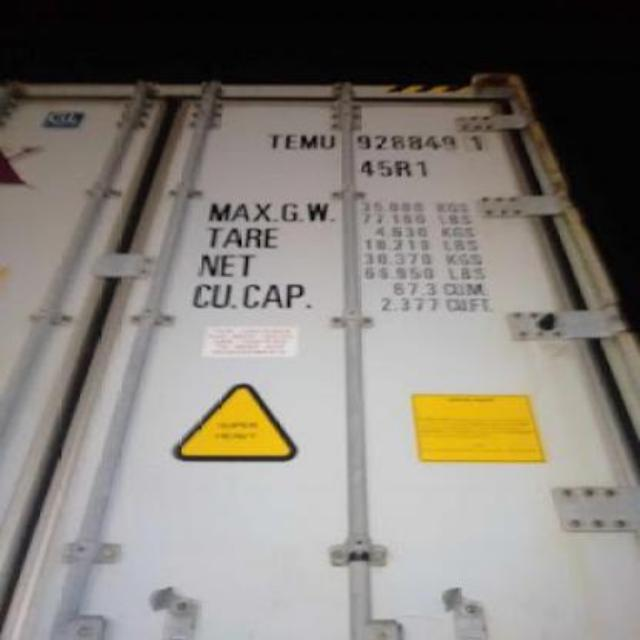1: (464, 130, 490, 154)
2: (372, 130, 390, 154)
4: (424, 128, 440, 156)
8: (392, 128, 410, 154), (408, 130, 424, 152)
9: (440, 128, 460, 154), (358, 130, 372, 154)
E: (284, 129, 298, 161)
M: (298, 128, 318, 156)
T: (268, 125, 282, 158)
U: (318, 128, 338, 158)
